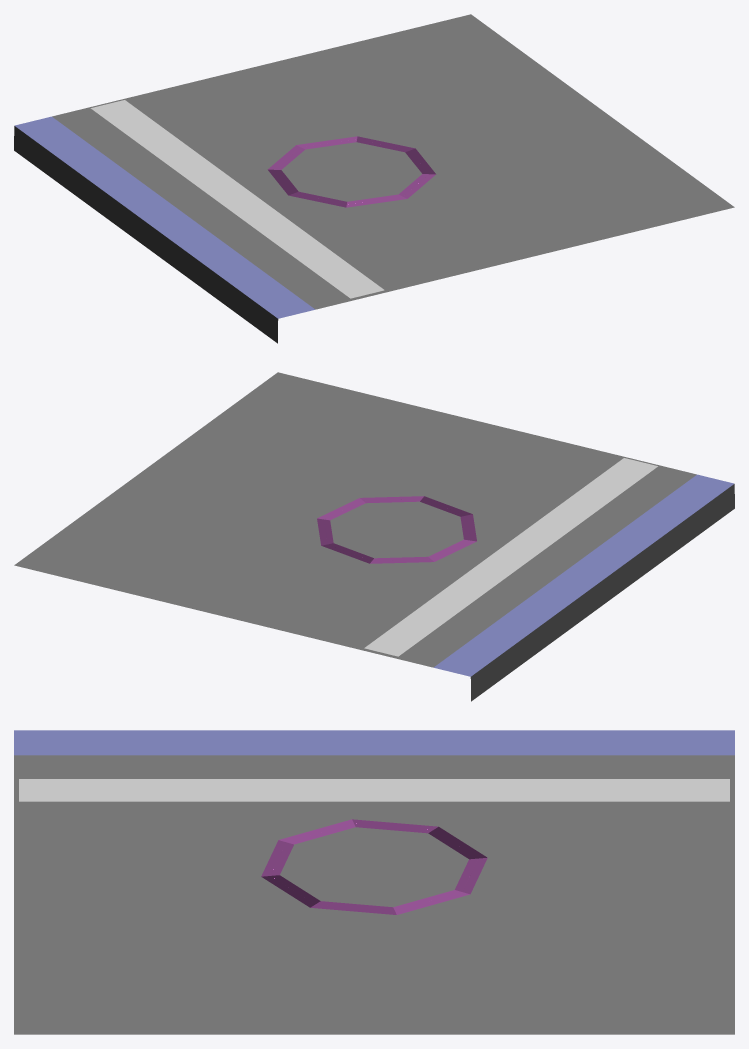
Rendered from W_M_maze_002_EnBottom_L2.fbx.
3 views of the same model, one above another, from view 1: azimuth 30°, elevation 25°; view 2: azimuth 150°, elevation 25°; view 3: azimuth 270°, elevation 25° (orthographic). The views are drawn at different scales.
Parts seen in each view (by area): view 1: W_M_maze_002_EnBottom_L2; view 2: W_M_maze_002_EnBottom_L2; view 3: W_M_maze_002_EnBottom_L2.
Boxes of the visible parts, bbox=[...] form: W_M_maze_002_EnBottom_L2: bbox=[14, 14, 734, 343]; W_M_maze_002_EnBottom_L2: bbox=[14, 372, 734, 701]; W_M_maze_002_EnBottom_L2: bbox=[14, 730, 734, 1034].
Size of the model in its own units: 4 by 0.213 by 4.
